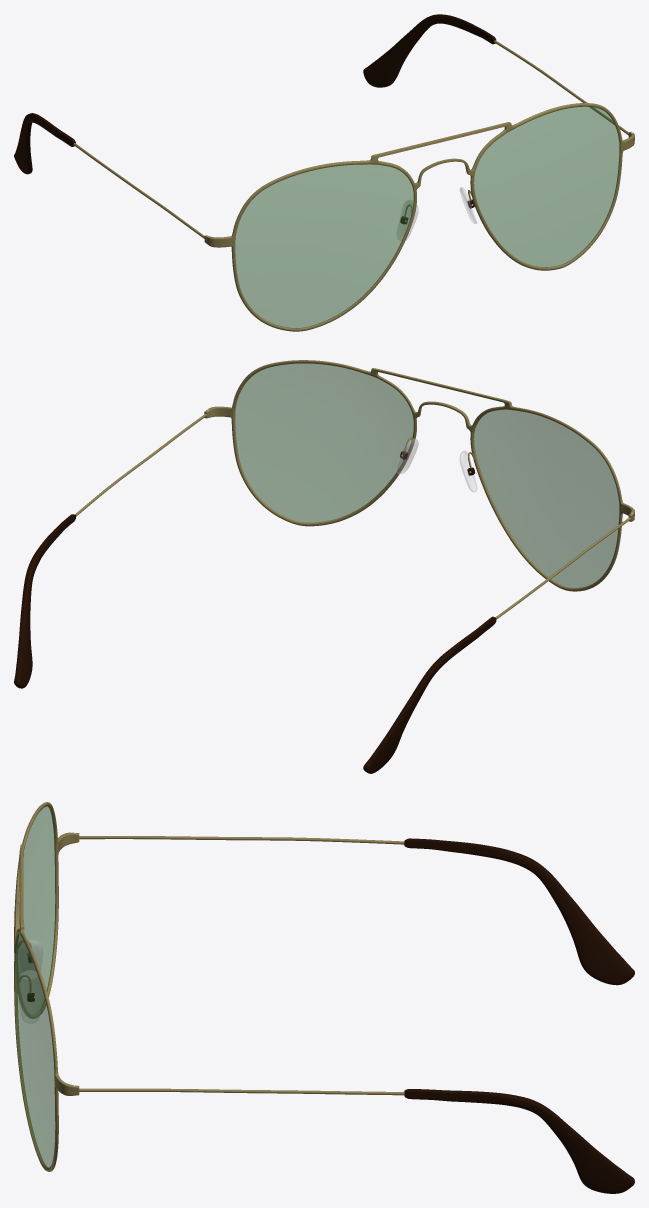
3 renders of one model, top to bottom at view 1: azimuth 30°, elevation 25°; view 2: azimuth 150°, elevation 25°; view 3: azimuth 270°, elevation 25°, orthographic. The views are drawn at different scales.
Visible parts, largest first — view 1: Aviators; view 2: Aviators; view 3: Aviators.
Boxes of the visible parts, x1=… form: Aviators: x1=14, y1=14, x2=634, y2=331; Aviators: x1=14, y1=360, x2=634, y2=773; Aviators: x1=14, y1=802, x2=634, y2=1193.
Size of the model in its own units: 13.96 by 5.22 by 14.4.
